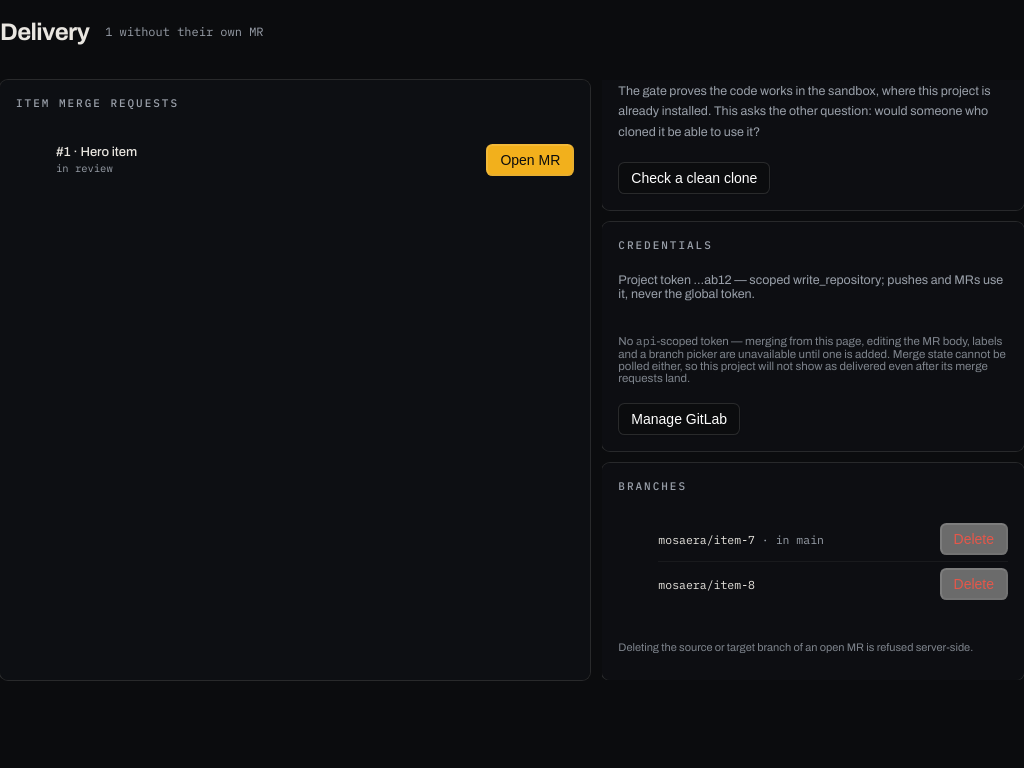
it: DeliveryWorkspace › a deleted branch leaves the list immediately, without waiting for a refetch
(page scrolled)
Click the button "Delete" in the row of "mosaera/item-7". click: (974, 539)
box: [940, 523, 1008, 555]
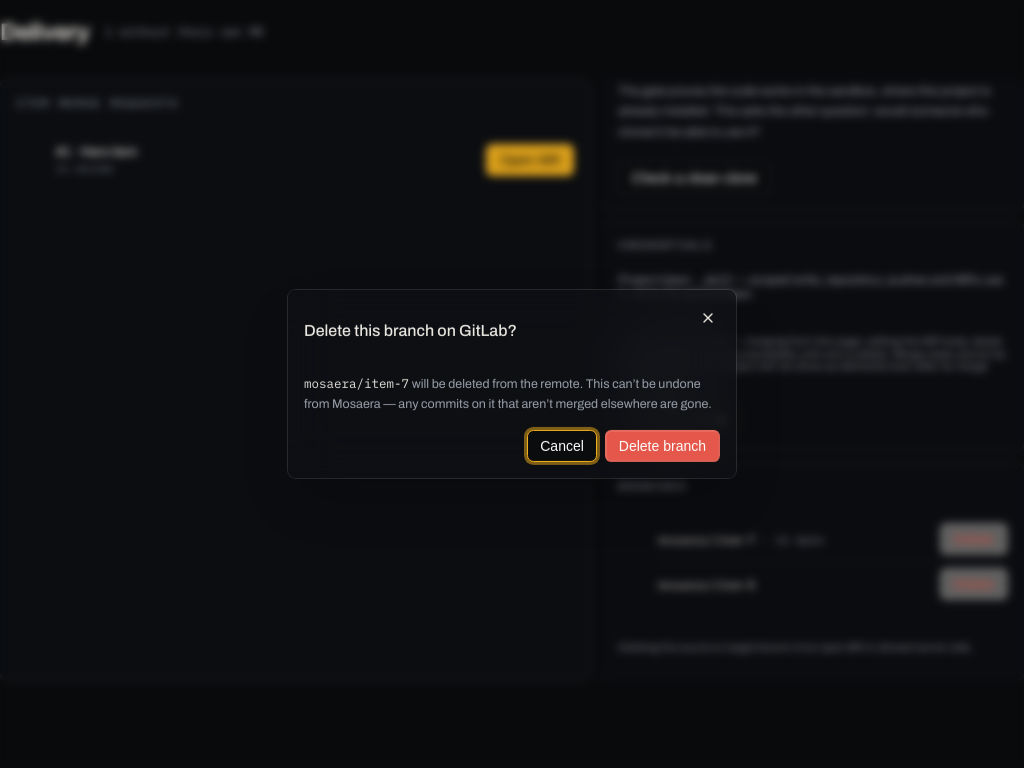
Click the button "Delete branch". click: (662, 446)
box: [605, 430, 720, 462]
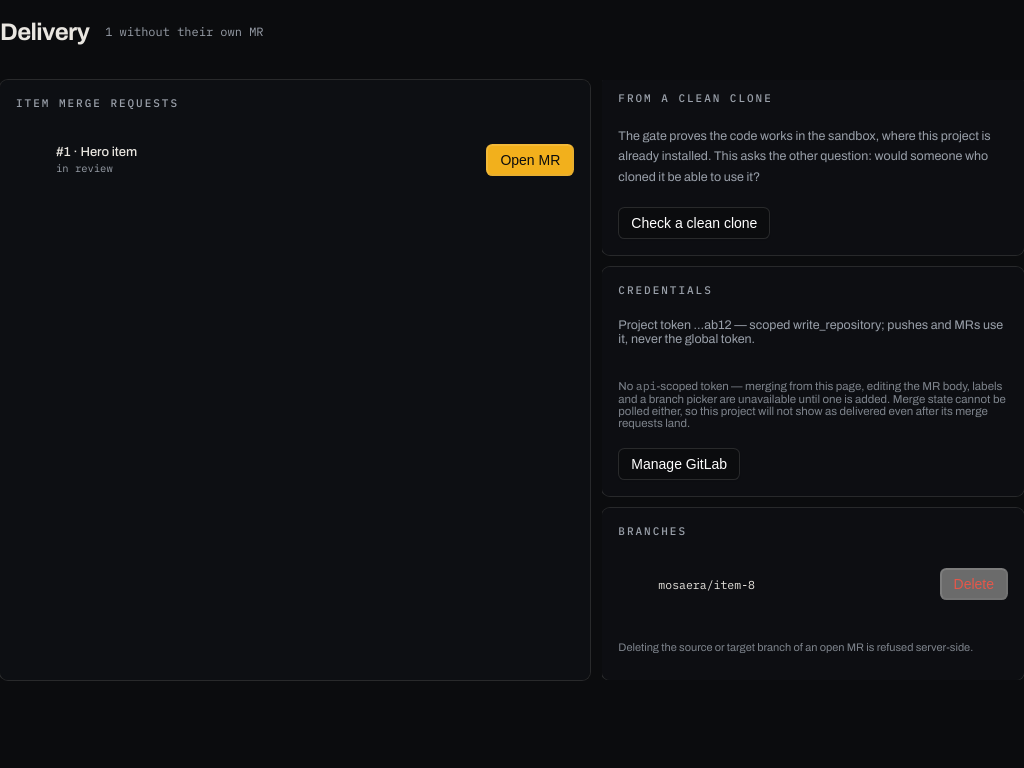
expect the text "mosaera/item-8" is shown: met, box [658, 577, 755, 592]
expect the text "mosaera/item-7" is gone: met
